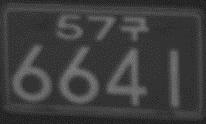1: (158, 49, 191, 109)
4: (106, 47, 149, 107)
5: (56, 13, 83, 41)
6: (57, 44, 99, 105), (12, 44, 54, 103)
7: (87, 15, 116, 41)
구: (119, 15, 149, 40)
